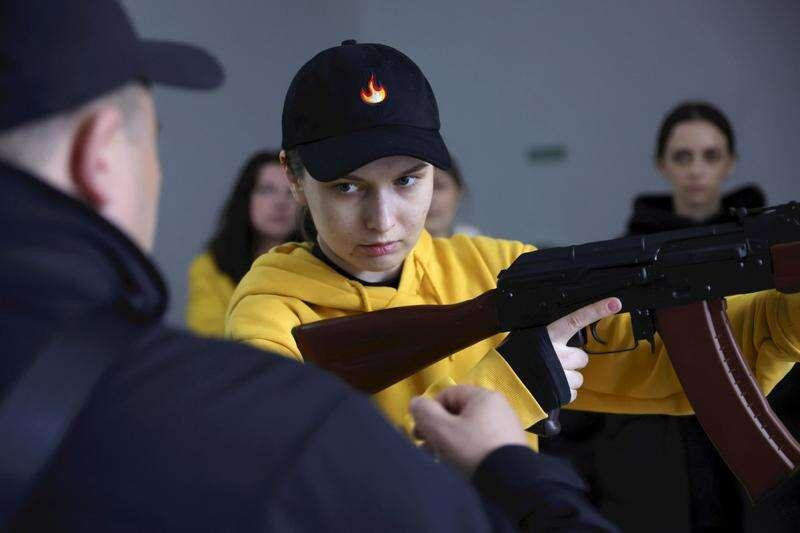larga: (289, 198, 800, 515)
